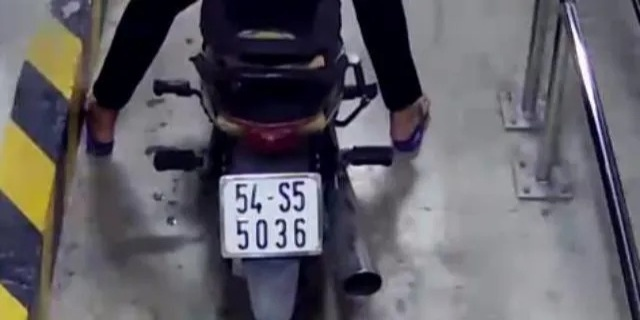bien_so: (217, 173, 324, 258)
